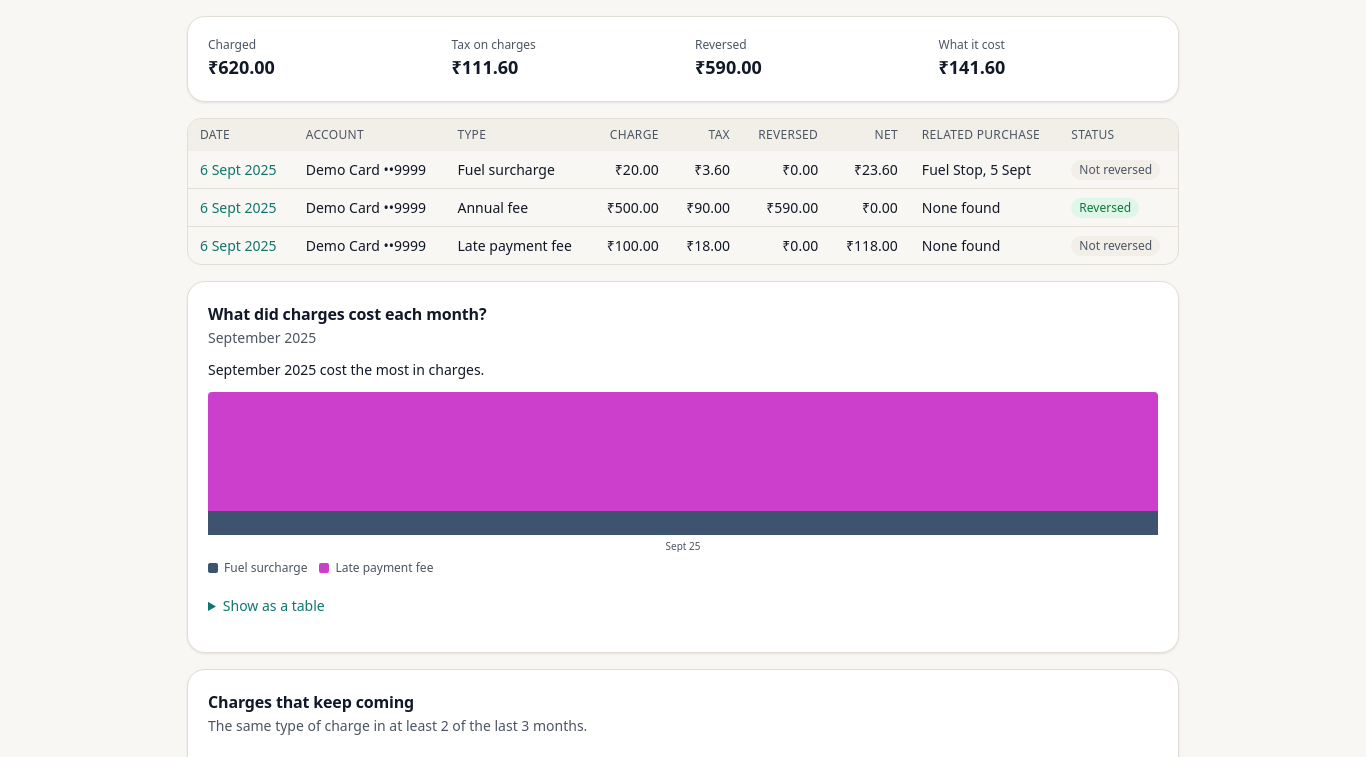
Test case: FeesPage › opens a charge with a waterfall, the statement rows and wording drawn only from recorded terms
The image size is (1366, 757).
Click the button "6 Sept 2025" in the row of "₹20.00" at coordinates (238, 170), box [200,160,277,180]
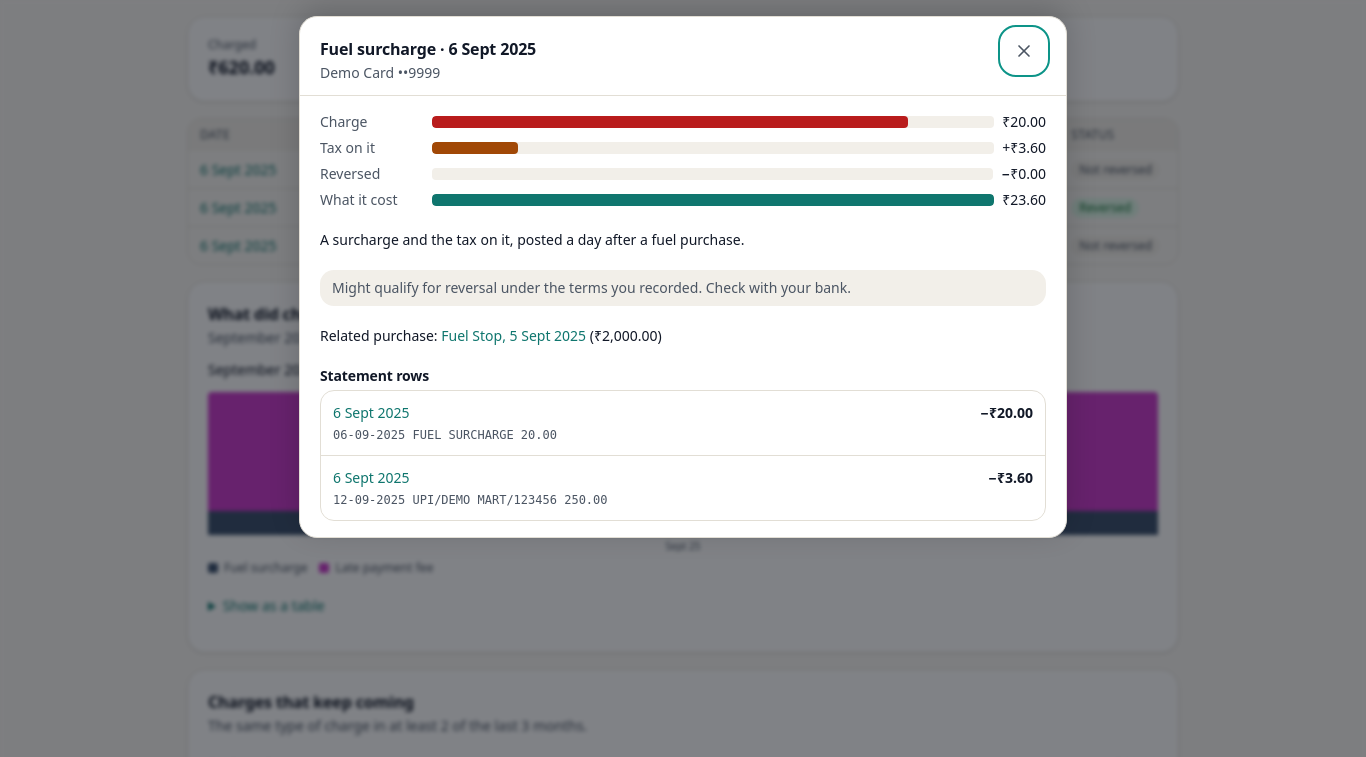
Check: the list named "How this charge adds up" shows "Charge", box [320,112,368,131]
Check: the list named "How this charge adds up" shows "Tax on it", box [320,138,375,157]
Check: the list named "How this charge adds up" shows "Reversed", box [320,164,380,183]
